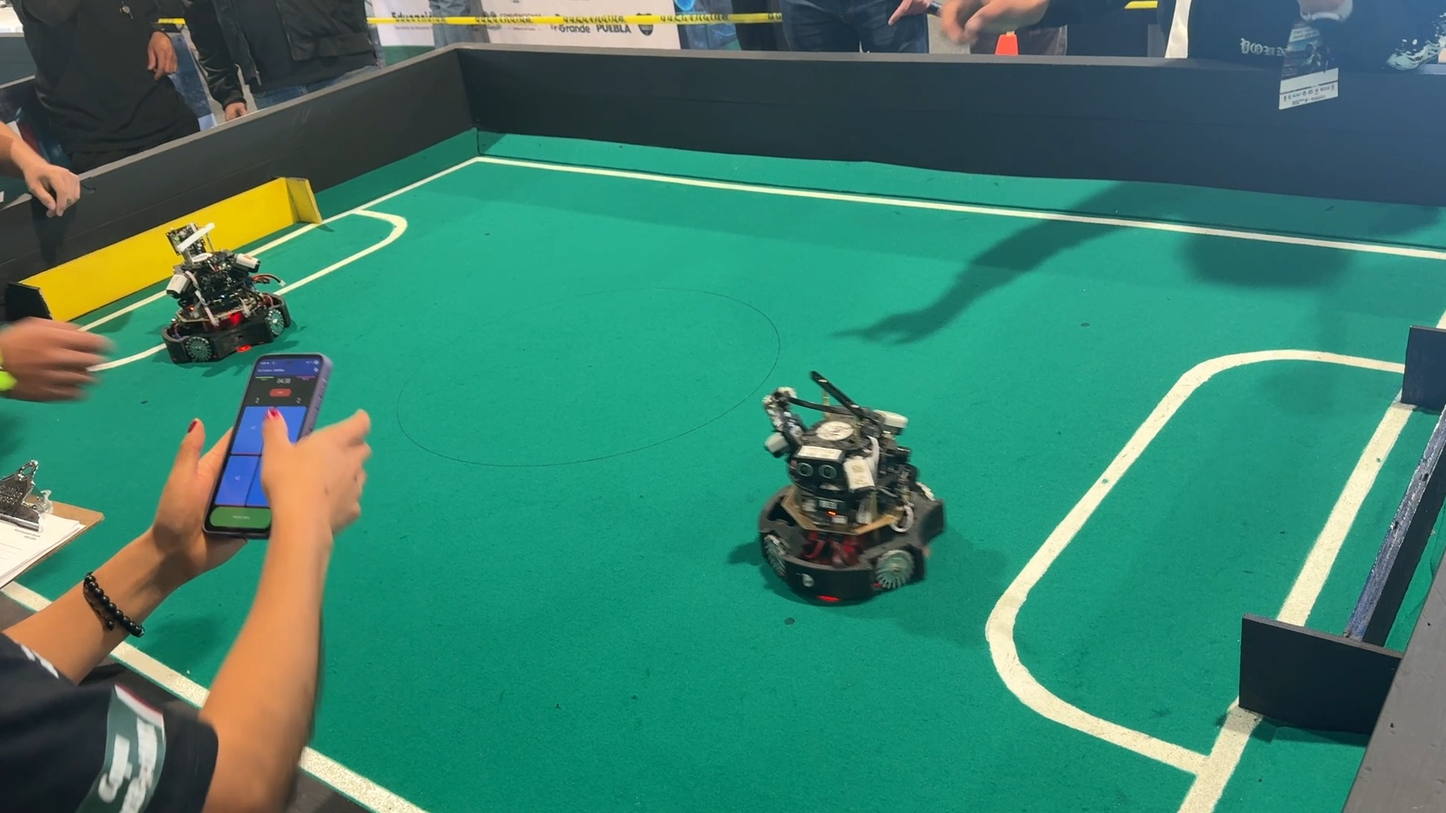Robot: (727, 360, 957, 635), (137, 211, 299, 376)
